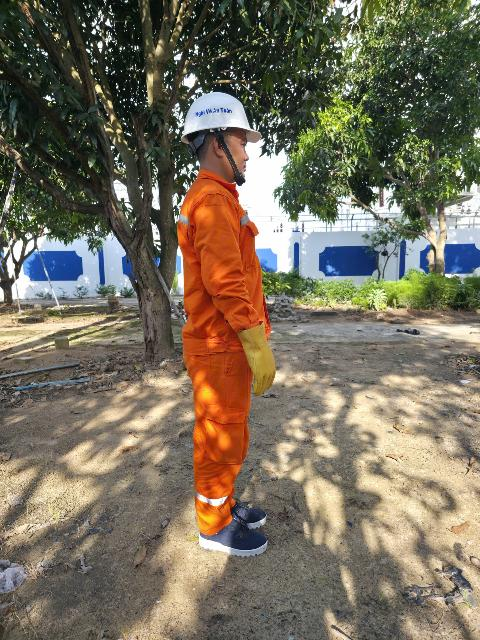gloves: (231, 315, 284, 411)
helmet: (171, 83, 271, 156)
shoes: (190, 525, 278, 565), (210, 496, 267, 529)
